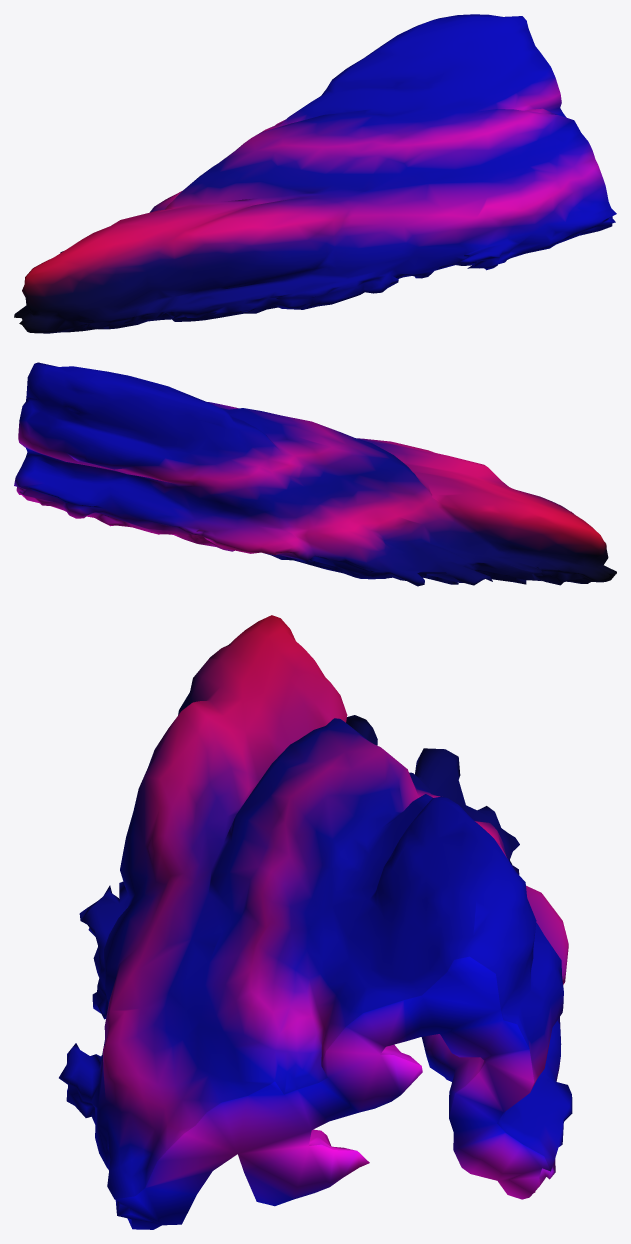
File: copper_vein-u6-cold-lod0.gltf
3 renders of one model, top to bottom at view 1: azimuth 30°, elevation 25°; view 2: azimuth 150°, elevation 25°; view 3: azimuth 270°, elevation 25°, orthographic. The views are drawn at different scales.
Parts seen in each view (by area): view 1: copper_vein-u6-cold-lod0; view 2: copper_vein-u6-cold-lod0; view 3: copper_vein-u6-cold-lod0.
Part boxes in pixels (<box>): copper_vein-u6-cold-lod0: <box>14,14,616,333</box>; copper_vein-u6-cold-lod0: <box>14,362,616,586</box>; copper_vein-u6-cold-lod0: <box>59,615,572,1229</box>.
Size of the model in its own units: 1.85 by 0.4884 by 0.78.
